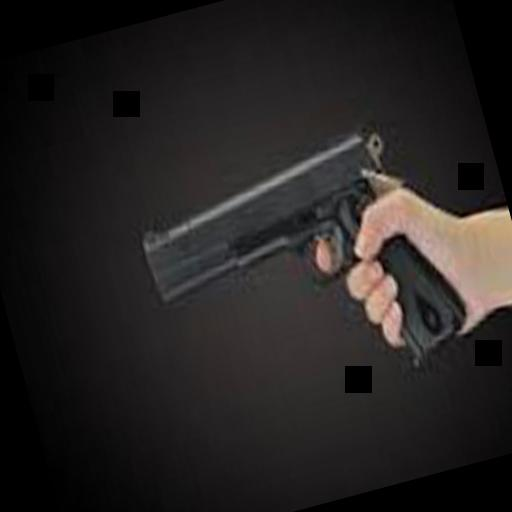Handgun: (118, 84, 468, 414)
